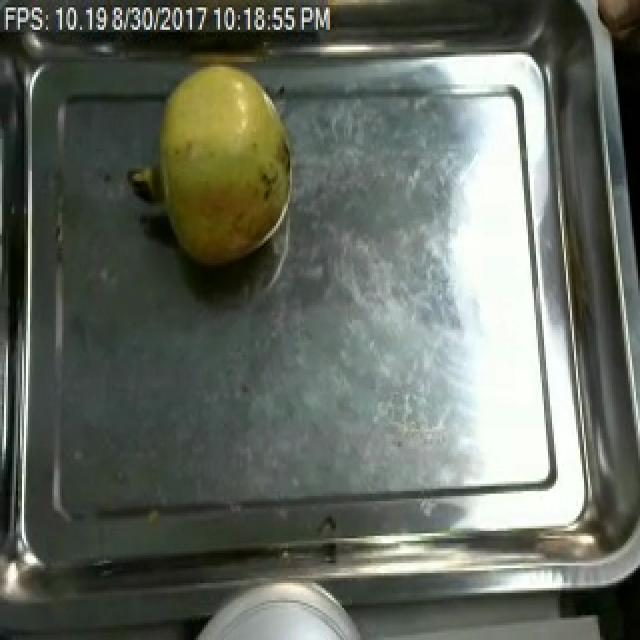fruit: (142, 57, 298, 270), (112, 0, 314, 30), (590, 0, 640, 47)
